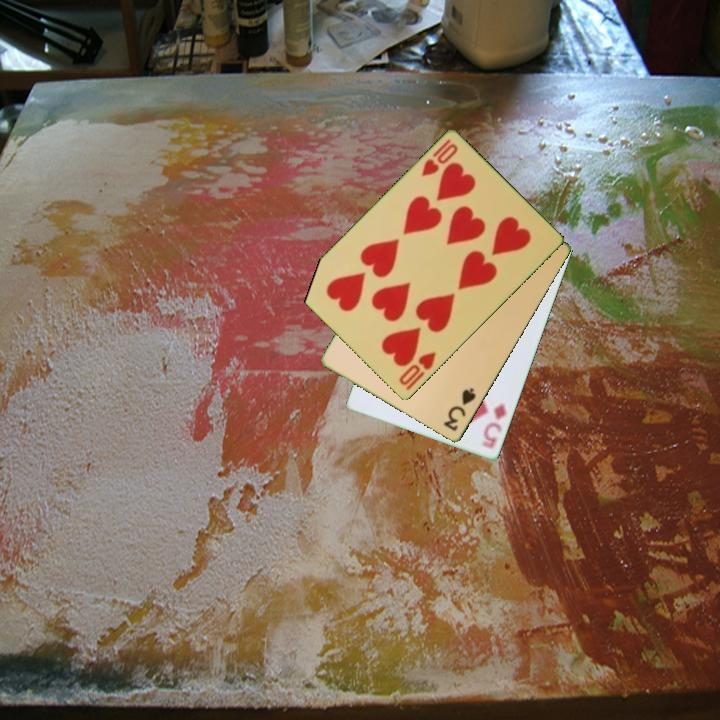10h: (396, 348, 439, 394), (418, 135, 461, 180)
3s: (440, 385, 479, 434)
5d: (478, 401, 510, 452)
